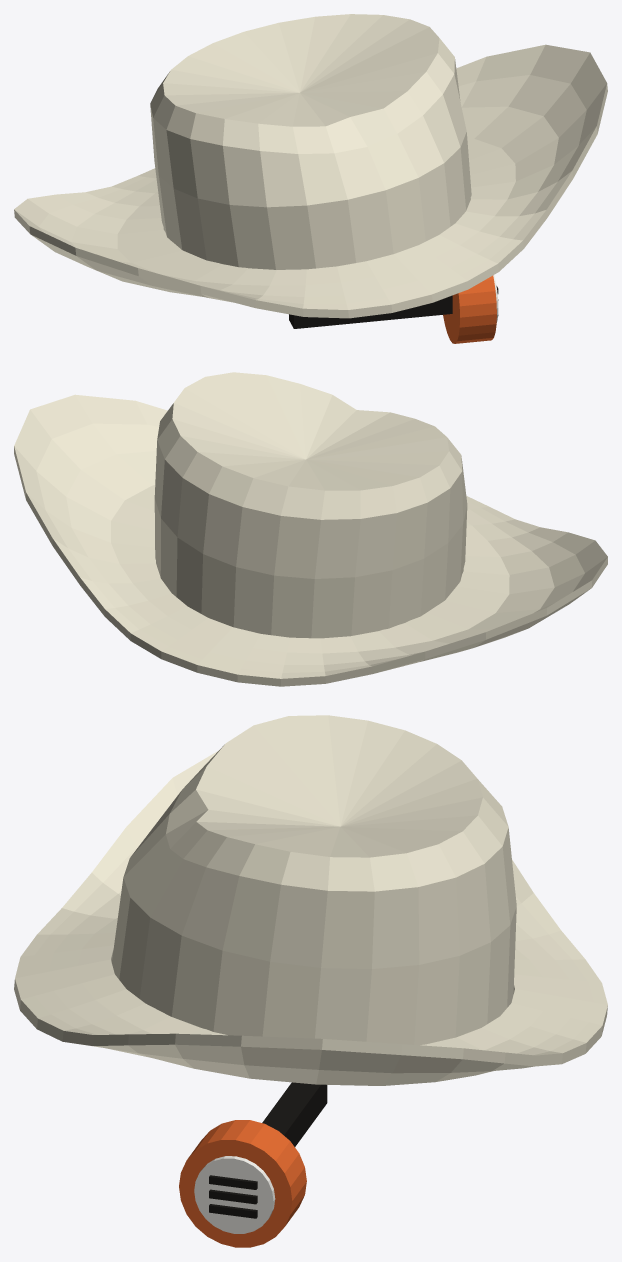
The model's file is chapeau.fbx.
3 views of the same model, one above another, from view 1: azimuth 30°, elevation 25°; view 2: azimuth 150°, elevation 25°; view 3: azimuth 270°, elevation 25° (orthographic). The views are drawn at different scales.
Parts seen in each view (by area): view 1: chapeau; view 2: chapeau; view 3: chapeau.
Boxes of the visible parts, bbox=[...] form: chapeau: bbox=[14, 14, 607, 343]; chapeau: bbox=[14, 372, 607, 686]; chapeau: bbox=[14, 715, 607, 1247].
Bounding box in the file's own units: 2.84 × 1.39 × 1.98.
Materials: 1 (1 with a texture image).
